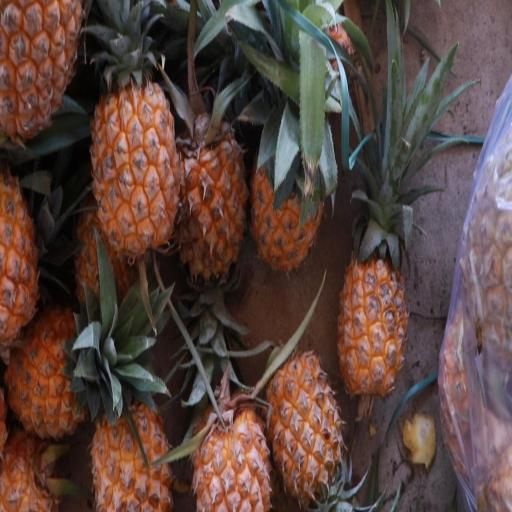Pineapple - v8 v1: (87, 56, 182, 278), (4, 293, 132, 440), (333, 215, 411, 404), (175, 92, 250, 288), (247, 103, 327, 279), (264, 346, 347, 512), (89, 384, 179, 512), (0, 161, 53, 352), (192, 395, 276, 512)
